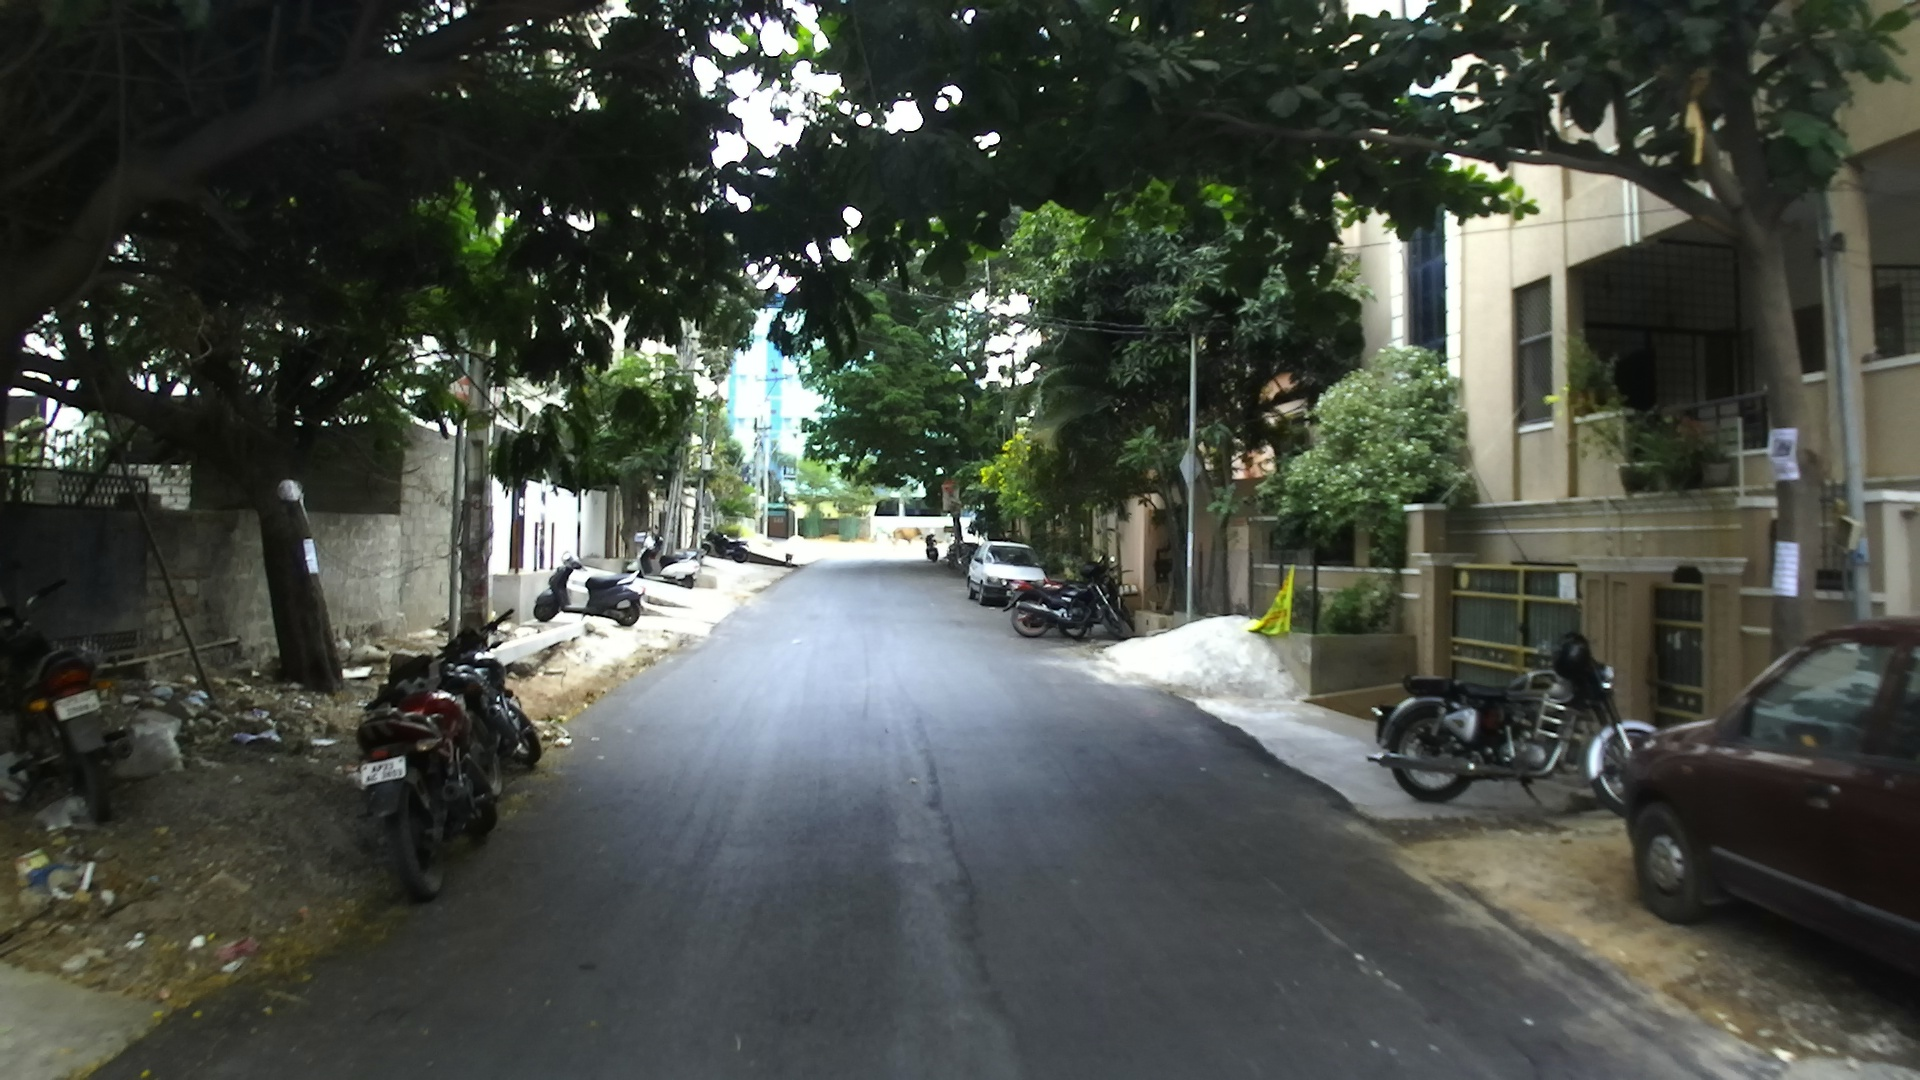vehicle: (1606, 613, 1919, 985), (343, 611, 545, 902), (0, 599, 185, 828), (1374, 641, 1613, 800), (347, 665, 500, 905), (0, 593, 127, 825), (531, 558, 645, 629), (964, 542, 1044, 604), (963, 541, 1017, 597)
